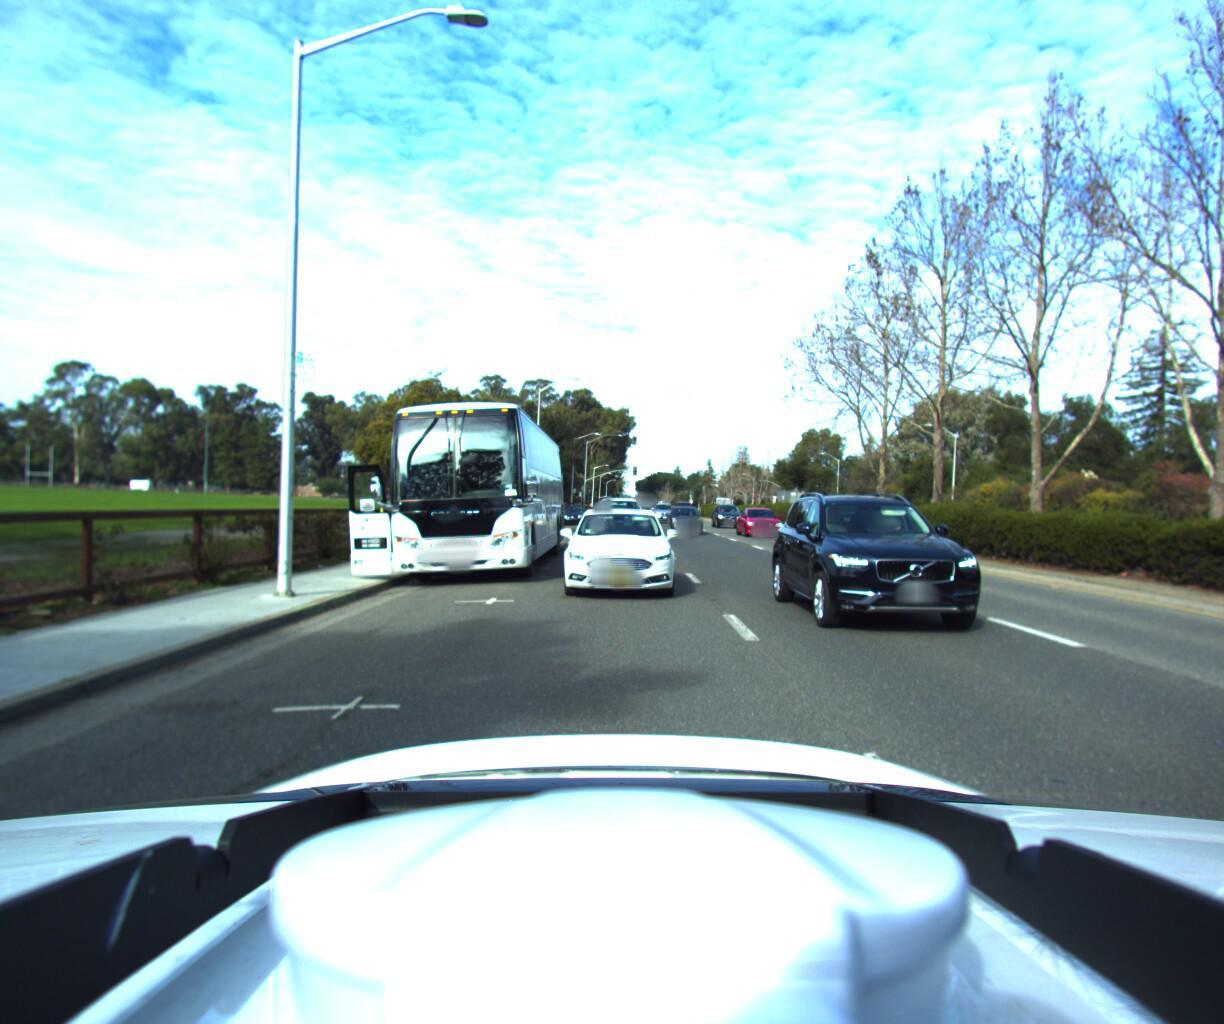bus: (367, 386, 569, 591)
car: (783, 478, 1066, 669), (560, 500, 679, 604), (590, 490, 644, 538), (736, 506, 790, 538), (662, 499, 708, 536), (710, 505, 747, 528), (560, 501, 585, 526), (651, 503, 678, 523)
truck: (766, 479, 827, 517)
